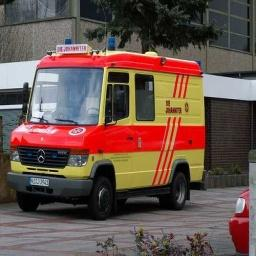Ambulance: (7, 44, 204, 219)
